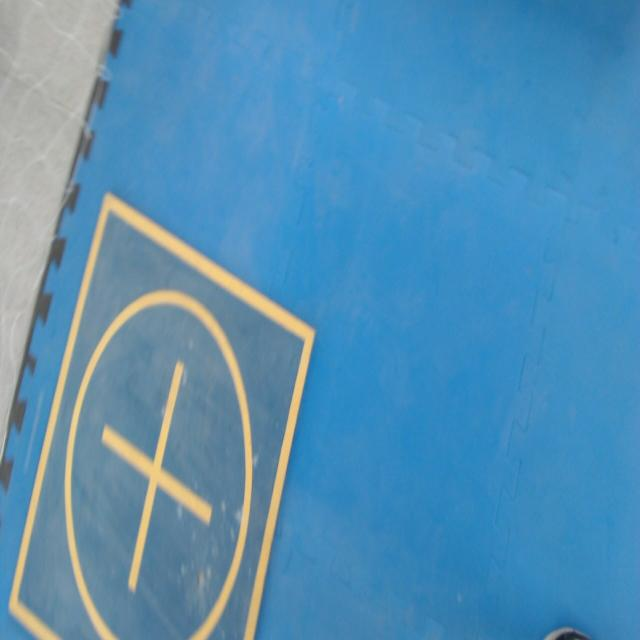base_pouso: (8, 192, 315, 639)
